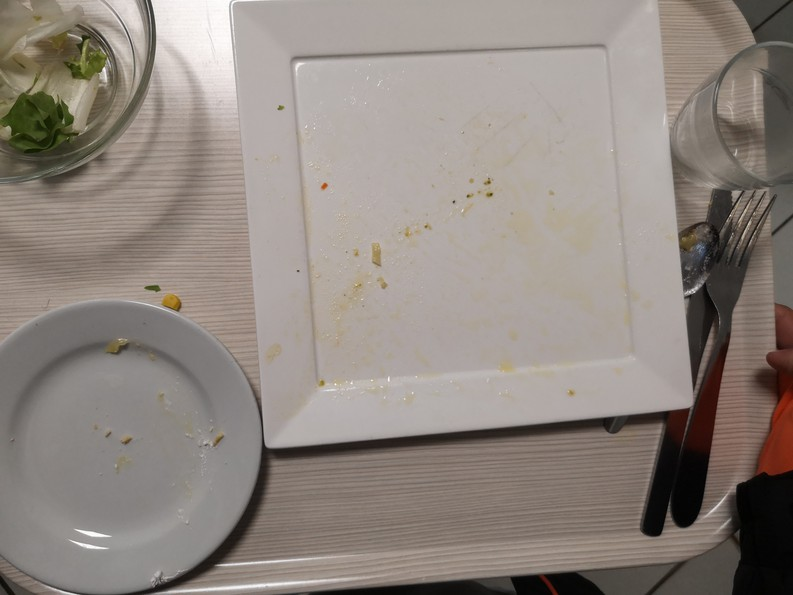cup: (679, 27, 793, 188)
cutlery: (674, 187, 765, 532)
orga: (1, 11, 113, 122)
